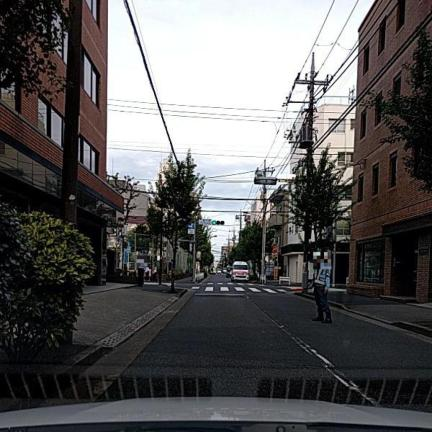Road: (122, 275, 431, 408)
